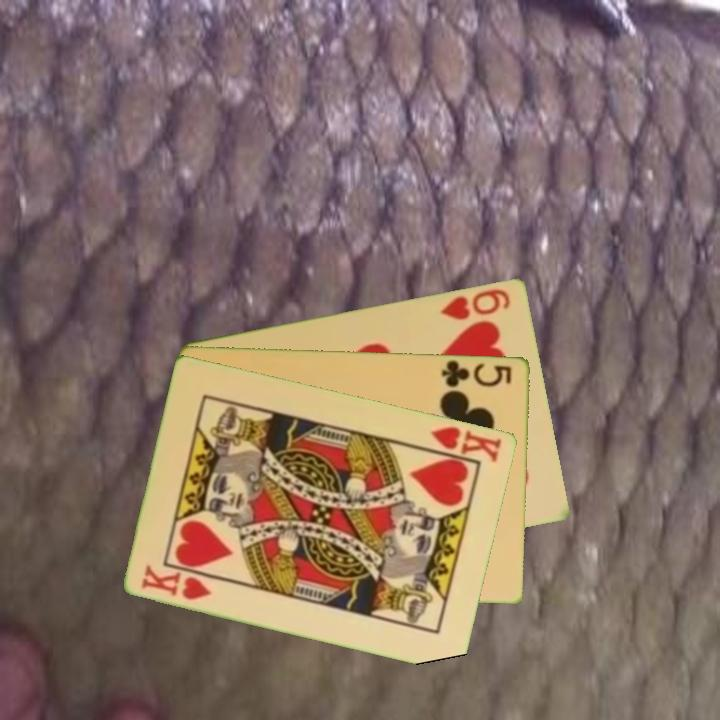5c: (439, 357, 515, 390)
6h: (437, 284, 514, 323)
Kh: (419, 422, 505, 465), (138, 561, 215, 603)
